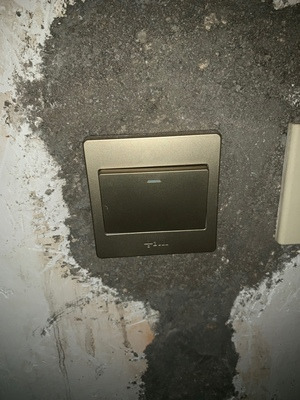switch: (94, 157, 211, 236)
